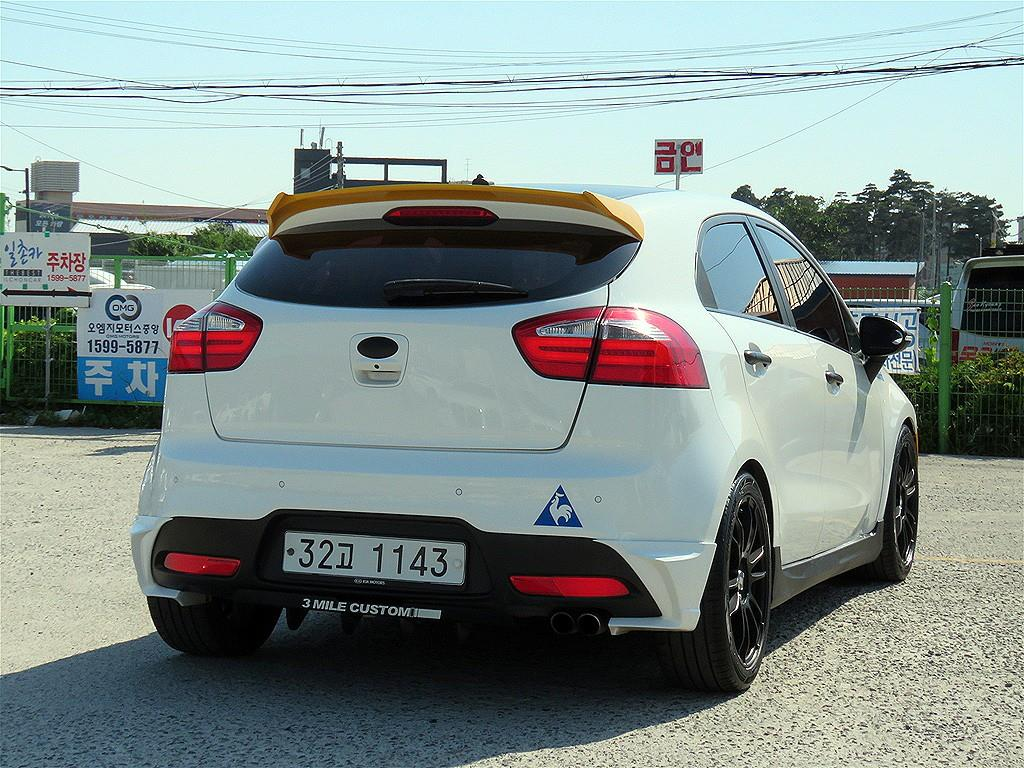plate: (283, 532, 464, 585)
